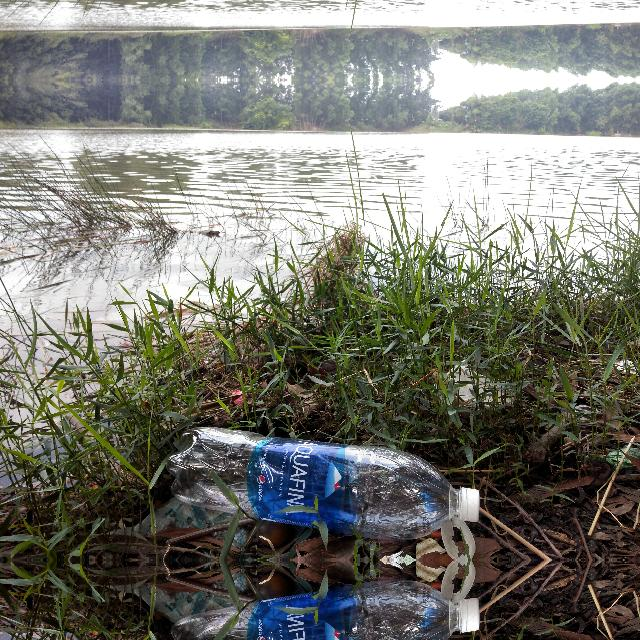Plastic: (158, 422, 492, 544), (157, 575, 492, 640)
